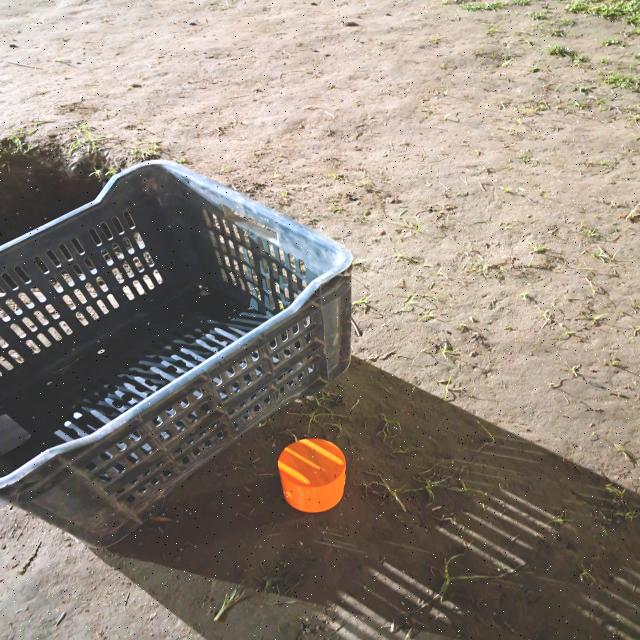Cylinder: (276, 437, 347, 513)
